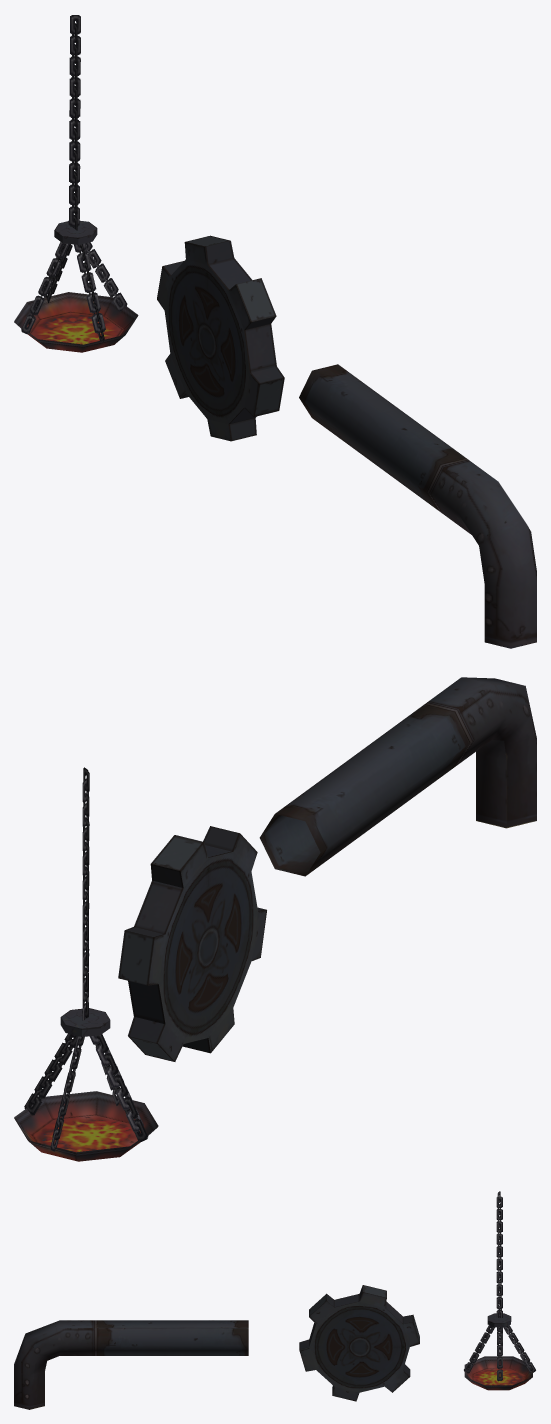
File: 2_DG_GongChang_01.FBX
3 views of the same model, one above another, from view 1: azimuth 30°, elevation 25°; view 2: azimuth 150°, elevation 25°; view 3: azimuth 270°, elevation 25° (orthographic). The views are drawn at different scales.
Visible parts, largest first — view 1: 2_DG_ChiLun_01, 2_DG_GuanDao_02, 2_DG_HuoPen_02, 2_DG_GuanDao_01; view 2: 2_DG_ChiLun_01, 2_DG_GuanDao_01, 2_DG_HuoPen_02, 2_DG_GuanDao_02; view 3: 2_DG_ChiLun_01, 2_DG_GuanDao_01, 2_DG_GuanDao_02, 2_DG_HuoPen_02.
Part boxes in pixels (x1,y1,x2,y2): 2_DG_ChiLun_01: (157,235,284,441); 2_DG_GuanDao_02: (427,458,536,648); 2_DG_HuoPen_02: (14,15,138,352); 2_DG_GuanDao_01: (299,364,465,511); 2_DG_ChiLun_01: (118,826,266,1061); 2_DG_GuanDao_01: (259,704,469,876); 2_DG_HuoPen_02: (14,767,158,1161); 2_DG_GuanDao_02: (424,677,536,828); 2_DG_ChiLun_01: (299,1285,419,1401); 2_DG_GuanDao_01: (97,1320,248,1355); 2_DG_GuanDao_02: (14,1320,97,1409); 2_DG_HuoPen_02: (464,1191,535,1390).
Size of the model in its own units: 267 by 731 by 1729.
